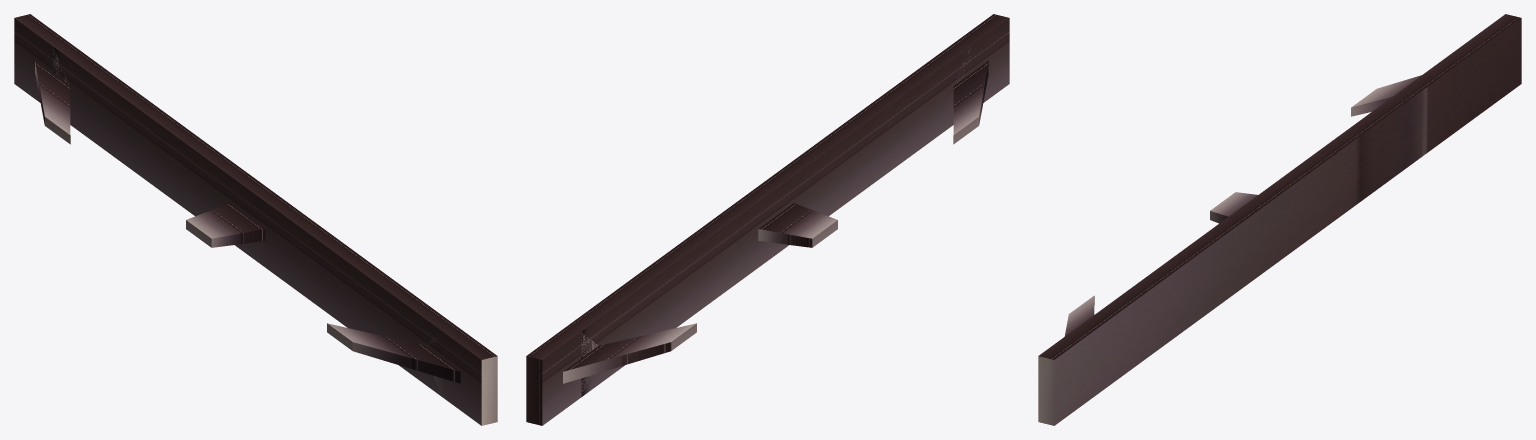
File: ElevatorBars.fbx
3 views of the same model, side by side, from view 1: azimuth 30°, elevation 25°; view 2: azimuth 150°, elevation 25°; view 3: azimuth 330°, elevation 25° (orthographic).
Visible parts, largest first — view 1: pCube14; view 2: pCube14; view 3: pCube14.
Boxes of the visible parts, x1=… form: pCube14: x1=14, y1=14, x2=497, y2=425; pCube14: x1=526, y1=14, x2=1009, y2=425; pCube14: x1=1038, y1=14, x2=1521, y2=425.
Size of the model in its own units: 1.22 by 1.17 by 15.09.
Materials: 1 (1 with a texture image).
